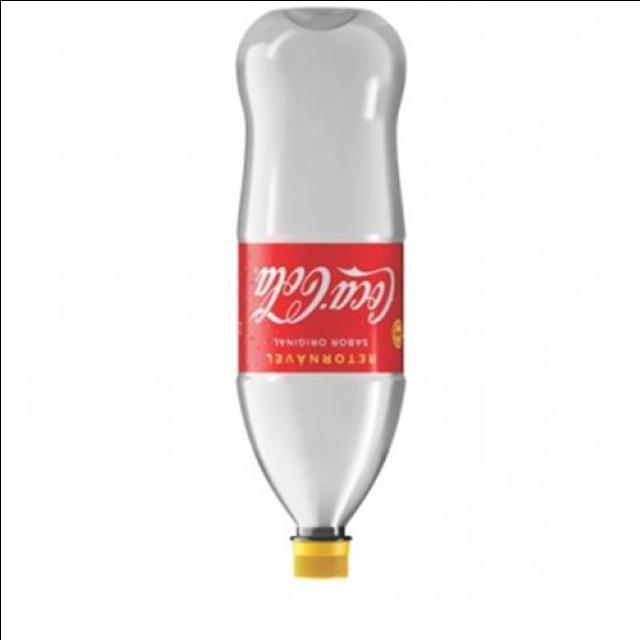bottle: (236, 8, 404, 577)
